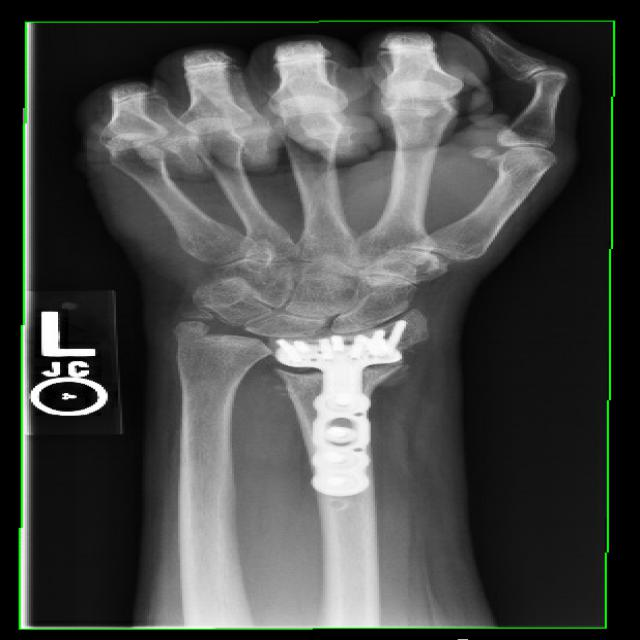x-ray: (259, 317, 435, 505)
